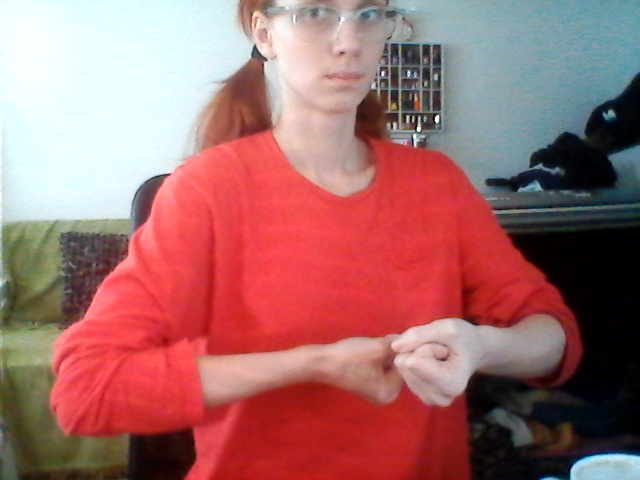hasic: (291, 295, 508, 422)
